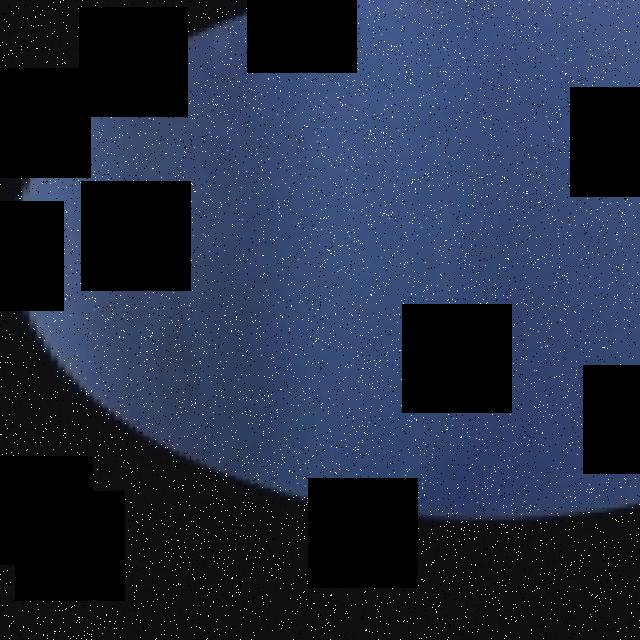Neptune: (7, 0, 640, 520)
